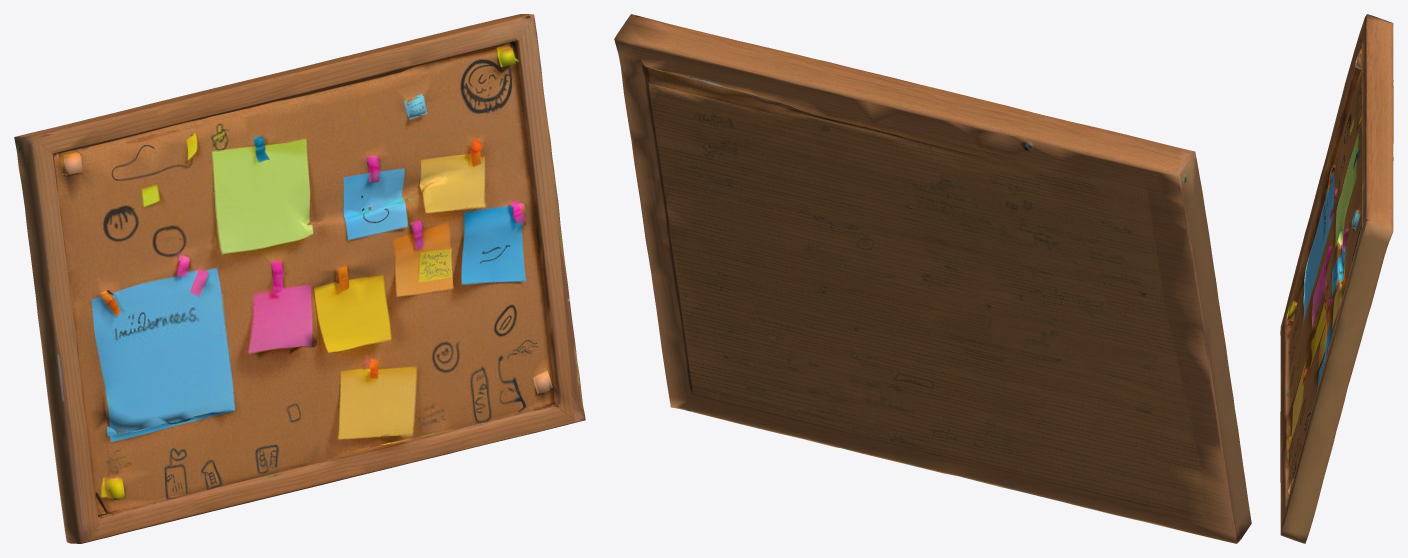
File: sticky-note-board.glb
The picture shows the model from 3 angles, left to right: view 1: azimuth 30°, elevation 25°; view 2: azimuth 150°, elevation 25°; view 3: azimuth 270°, elevation 25°; orthographic projection. The views are drawn at different scales.
Size of the model in its own units: 1.99 by 1.42 by 0.4559.
1 material, 1 textured.
